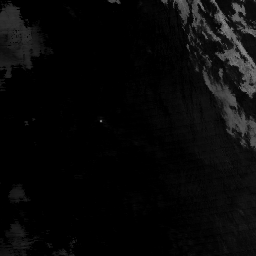Target: (99, 119, 102, 123)
